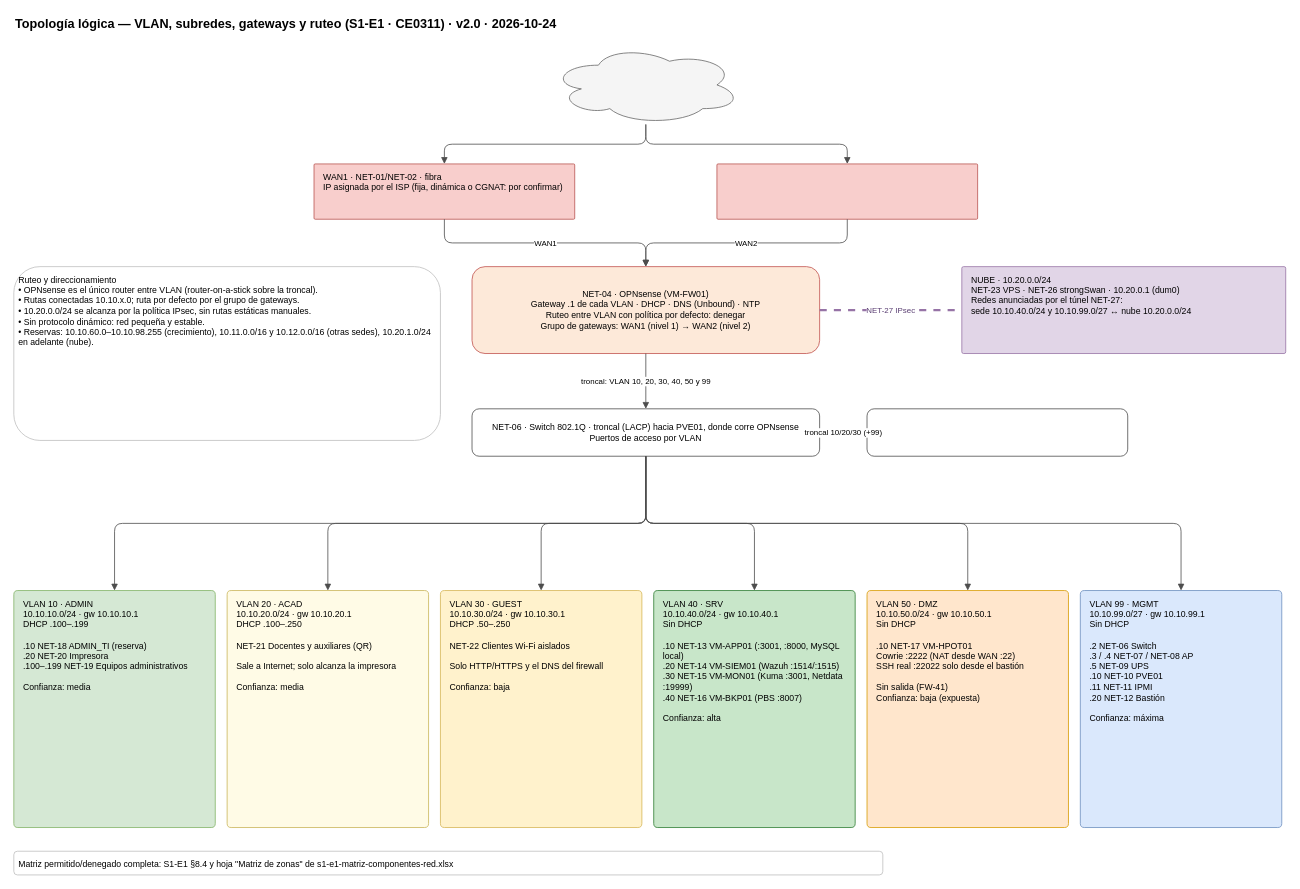
This 1300x889 diagram has some shape labels left out. Here are the shapes that lost their labels. From the top down, the centre of each, then its label:
At point (645, 84): "Internet".
At point (847, 191): "WAN2 · NET-03 · 4G/LTE DHCP del router LTE (doble NAT)".
At point (997, 432): "NET-07 / NET-08 · AP Wi-Fi 6 SSID → VLAN 10, 20 y 30 · gestión en VLAN 99".
